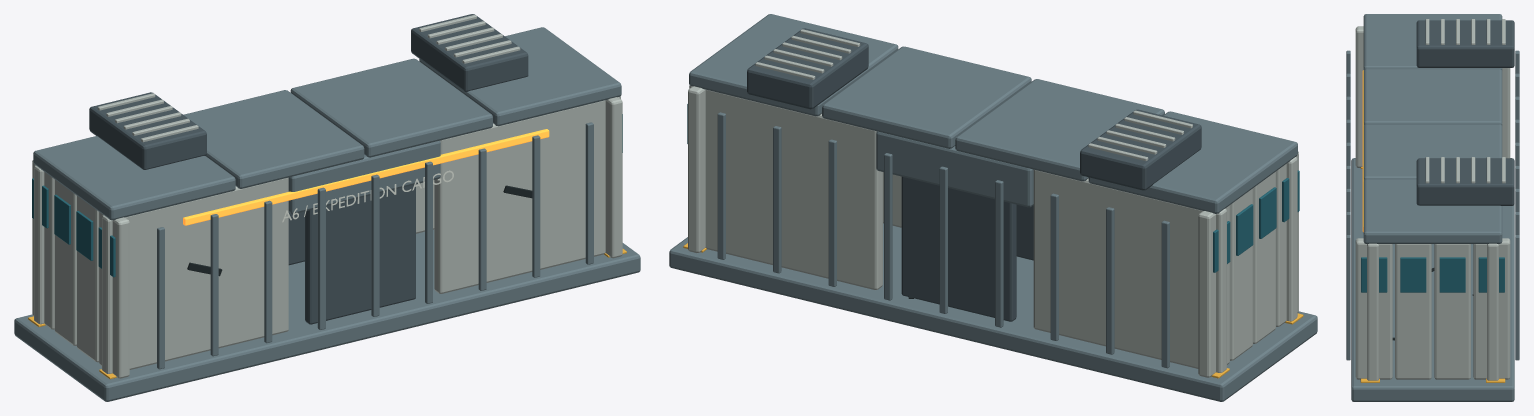
Rendered from logistics_container_d1.glb.
3 views of the same model, side by side, from view 1: azimuth 30°, elevation 25°; view 2: azimuth 150°, elevation 25°; view 3: azimuth 270°, elevation 25° (orthographic). The views are drawn at different scales.
Parts seen in each view (by area): view 1: End bulkhead.074, End bulkhead.075, Foundation.029, Removable roof segment.056, Sealed airlock.022, Removable roof segment.055, Removable roof segment.054, Removable roof segment.057, Roof heat exchanger.028, Roof heat exchanger.027, Door header.032, Side pressure panel.123 (+19 smaller); view 2: End bulkhead.076, End bulkhead.077, Foundation.029, Removable roof segment.056, Sealed airlock.023, Removable roof segment.055, Removable roof segment.054, Removable roof segment.057, Door header.033, Roof heat exchanger.028, Roof heat exchanger.027, Side pressure panel.126 (+18 smaller); view 3: Removable roof segment.055, Foundation.029, Removable roof segment.057, Removable roof segment.056, Roof heat exchanger.027, Roof heat exchanger.028, Side pressure panel.128, Side pressure panel.129, Removable roof segment.054, Side pressure panel.127, Side pressure panel.130, End bulkhead.075 (+10 smaller).
Boxes of the visible parts, left/top/right/bottom form: End bulkhead.074: left=102, top=177, right=288, bottom=373; End bulkhead.075: left=434, top=96, right=620, bottom=293; Foundation.029: left=14, top=229, right=640, bottom=401; Removable roof segment.056: left=290, top=58, right=492, bottom=157; Sealed airlock.022: left=305, top=184, right=415, bottom=324; Removable roof segment.055: left=183, top=90, right=364, bottom=188; Removable roof segment.054: left=33, top=136, right=235, bottom=220; Removable roof segment.057: left=419, top=27, right=621, bottom=126; Roof heat exchanger.028: left=411, top=14, right=528, bottom=91; Roof heat exchanger.027: left=89, top=92, right=206, bottom=169; Door header.032: left=288, top=140, right=440, bottom=213; Side pressure panel.123: left=99, top=212, right=129, bottom=378; End bulkhead.076: left=1033, top=169, right=1226, bottom=372; End bulkhead.077: left=689, top=85, right=882, bottom=290; Foundation.029: left=669, top=223, right=1317, bottom=401; Removable roof segment.056: left=822, top=46, right=1031, bottom=148; Sealed airlock.023: left=901, top=176, right=1016, bottom=321; Removable roof segment.055: left=955, top=79, right=1164, bottom=181; Removable roof segment.054: left=1088, top=111, right=1297, bottom=213; Removable roof segment.057: left=689, top=14, right=898, bottom=116; Door header.033: left=876, top=131, right=1033, bottom=207; Roof heat exchanger.028: left=747, top=28, right=868, bottom=109; Roof heat exchanger.027: left=1080, top=109, right=1201, bottom=190; Side pressure panel.126: left=1198, top=205, right=1229, bottom=377; Removable roof segment.055: left=1363, top=69, right=1502, bottom=125; Foundation.029: left=1351, top=158, right=1514, bottom=401; Removable roof segment.057: left=1363, top=179, right=1502, bottom=243; Removable roof segment.056: left=1363, top=124, right=1502, bottom=181; Roof heat exchanger.027: left=1416, top=20, right=1514, bottom=67; Roof heat exchanger.028: left=1416, top=158, right=1514, bottom=205; Side pressure panel.128: left=1395, top=244, right=1431, bottom=379; Side pressure panel.129: left=1434, top=244, right=1470, bottom=379; Removable roof segment.054: left=1363, top=14, right=1502, bottom=70; Side pressure panel.127: left=1355, top=238, right=1392, bottom=379; Side pressure panel.130: left=1473, top=238, right=1510, bottom=379; End bulkhead.075: left=1367, top=243, right=1378, bottom=380.
Size of the model in its own units: 10 by 3.81 by 3.18.
